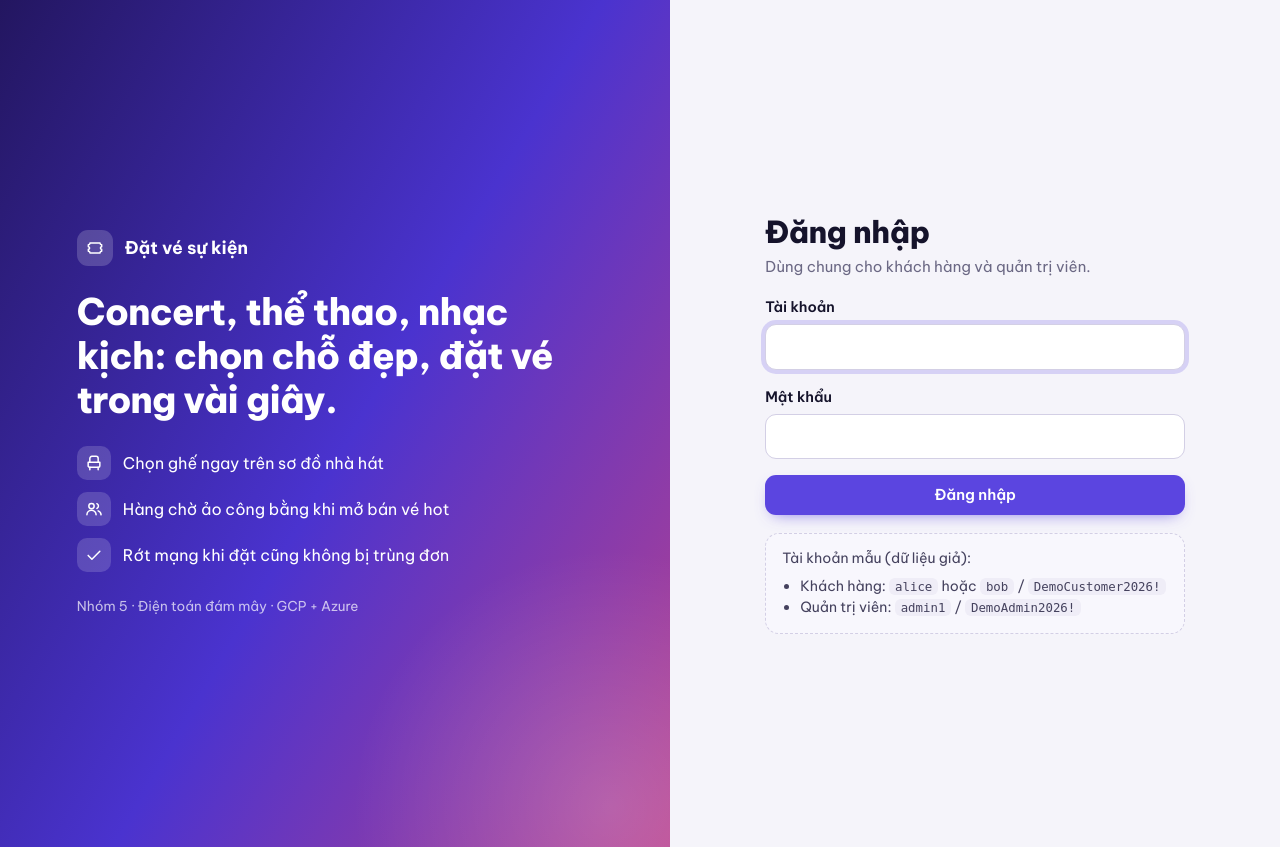
Test: quản lý sự kiện và hạng vé › admin đăng nhập được đưa vào khu vực quản trị, thấy cả sự kiện nháp
Type "admin1" into the field labelled "Tài khoản" at (975, 347), box [765,324,1185,370]
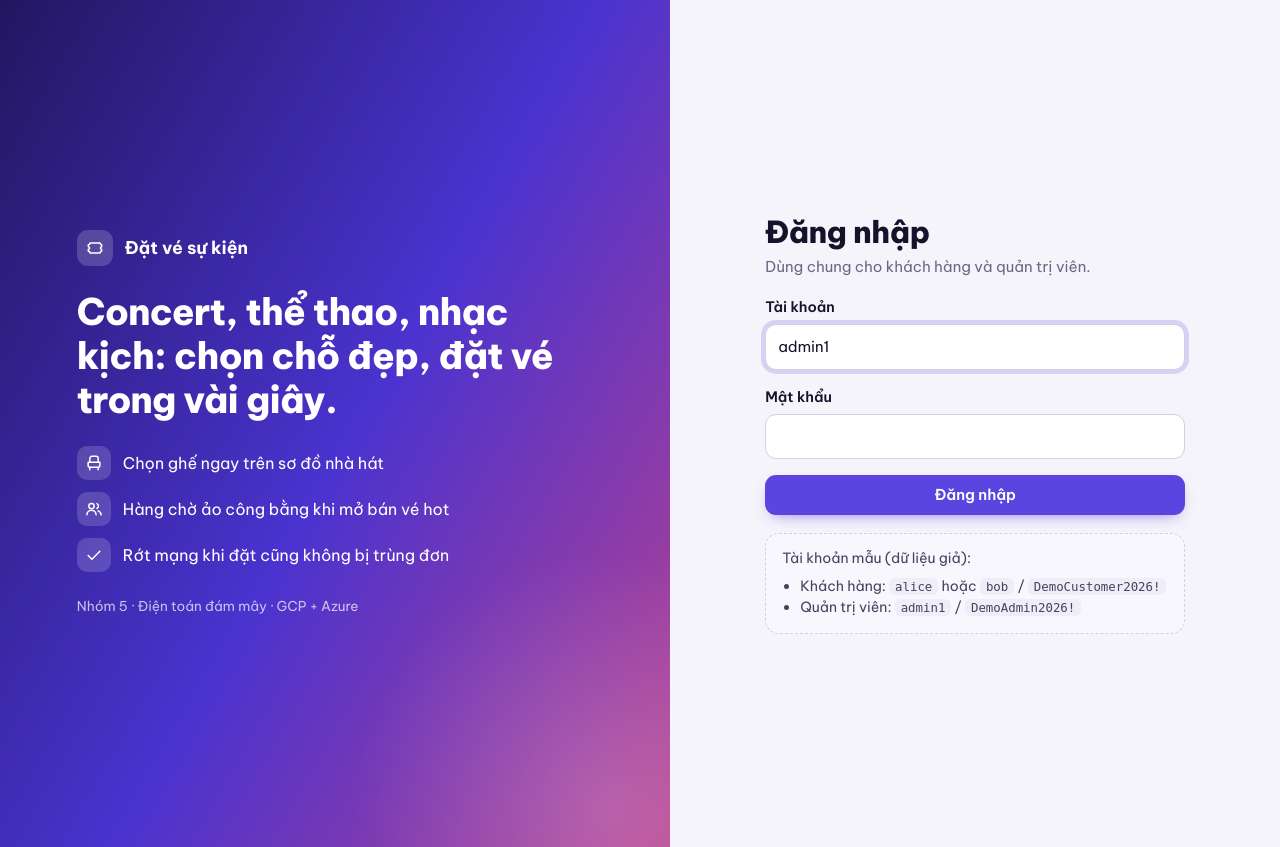
Type "DemoAdmin2026!" into the password field labelled "Mật khẩu" at (975, 437), box [765,414,1185,459]
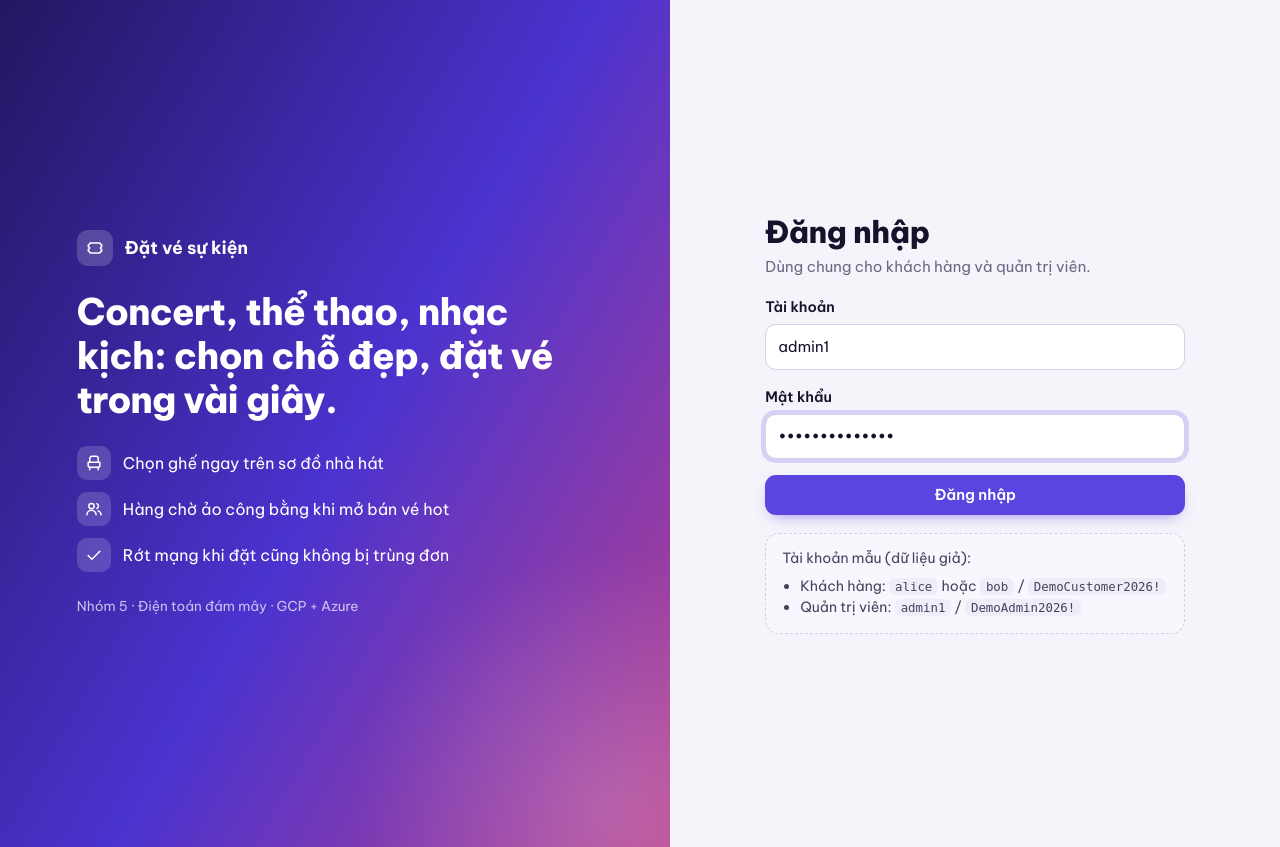
Click the button "Đăng nhập" at (975, 495), box [765,475,1185,515]
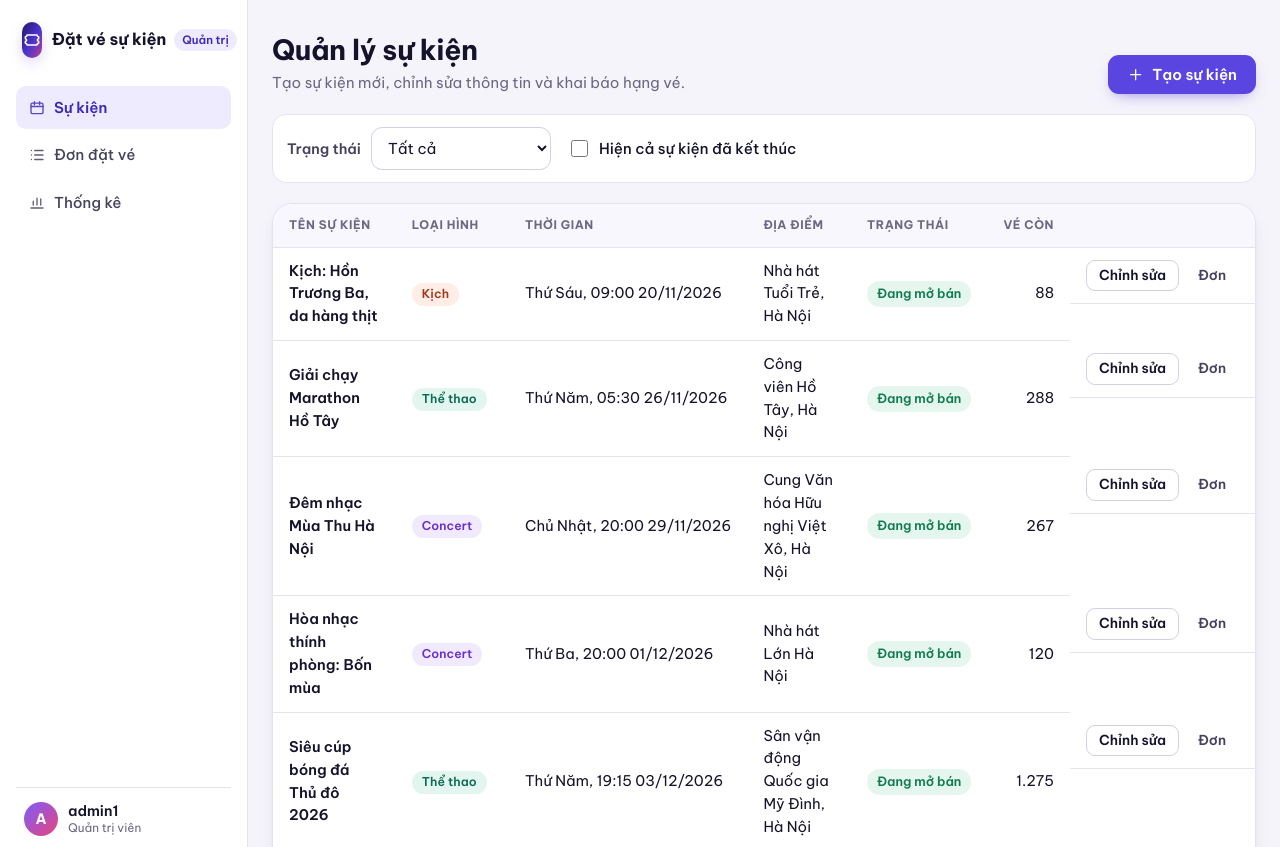
Expected: the heading "Quản lý sự kiện" is shown, [272,32,478,67]
Expected: the text "Đêm nhạc Mùa Thu Hà Nội" is shown, [273,457,396,596]
Select "Nháp" in the dropdown labelled "Trạng thái" at (461, 149), box [371,127,551,170]
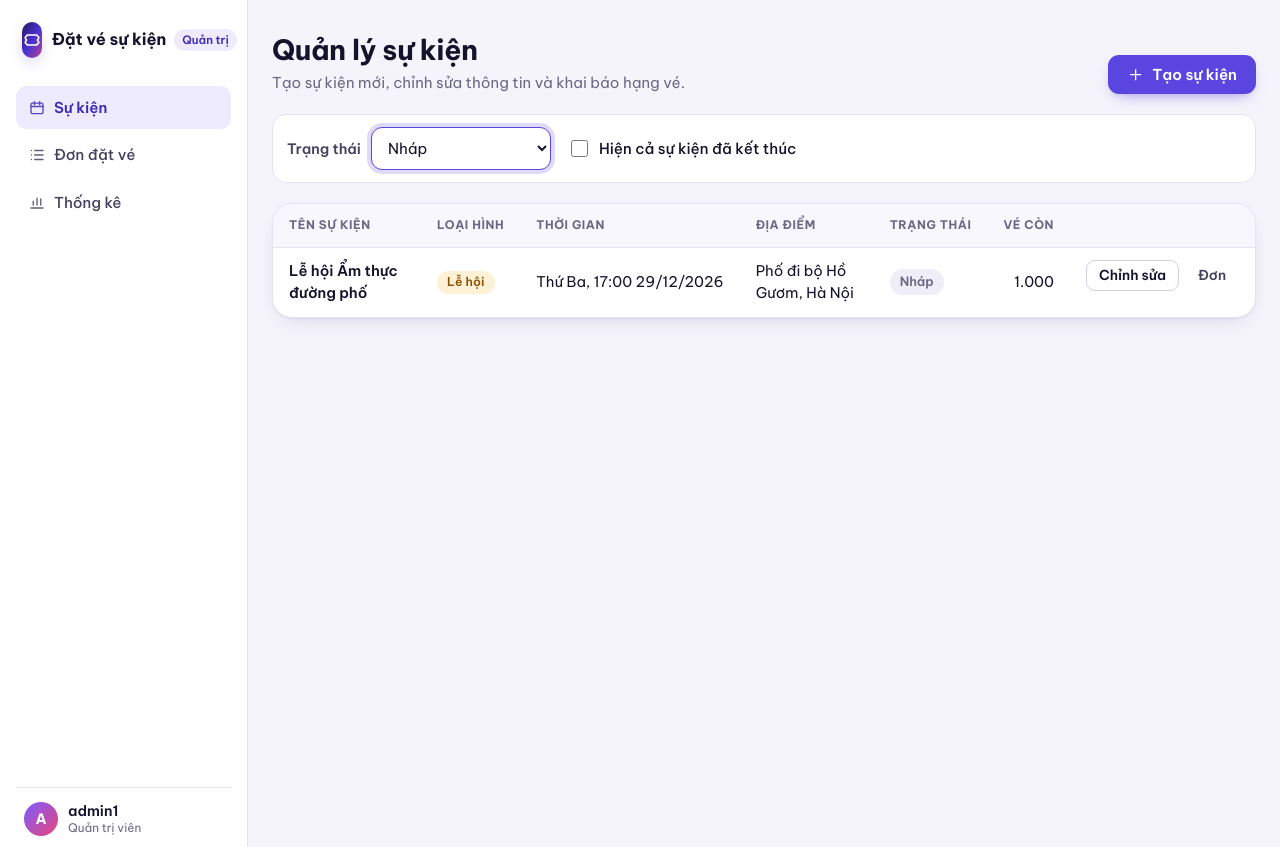
Expected: the text "Đêm nhạc Mùa Thu Hà Nội" is gone
